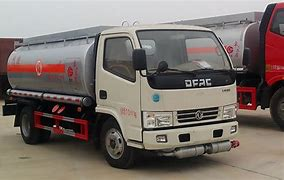oil truck: (2, 25, 243, 167)
